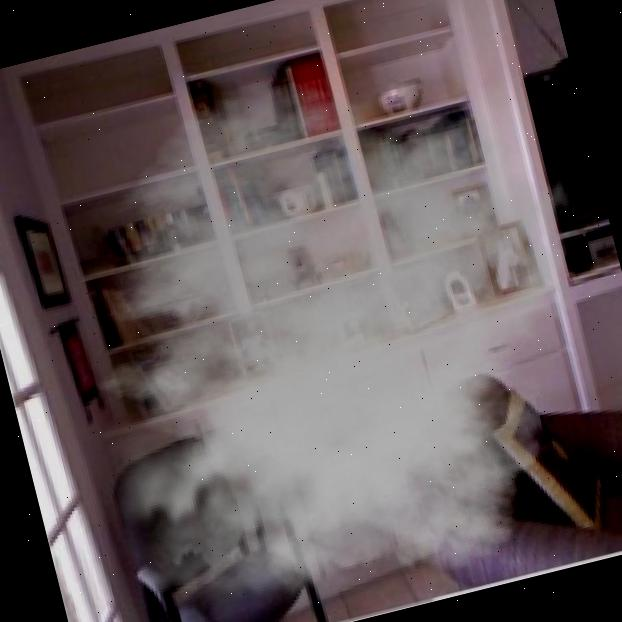smoke: (2, 20, 622, 622)
